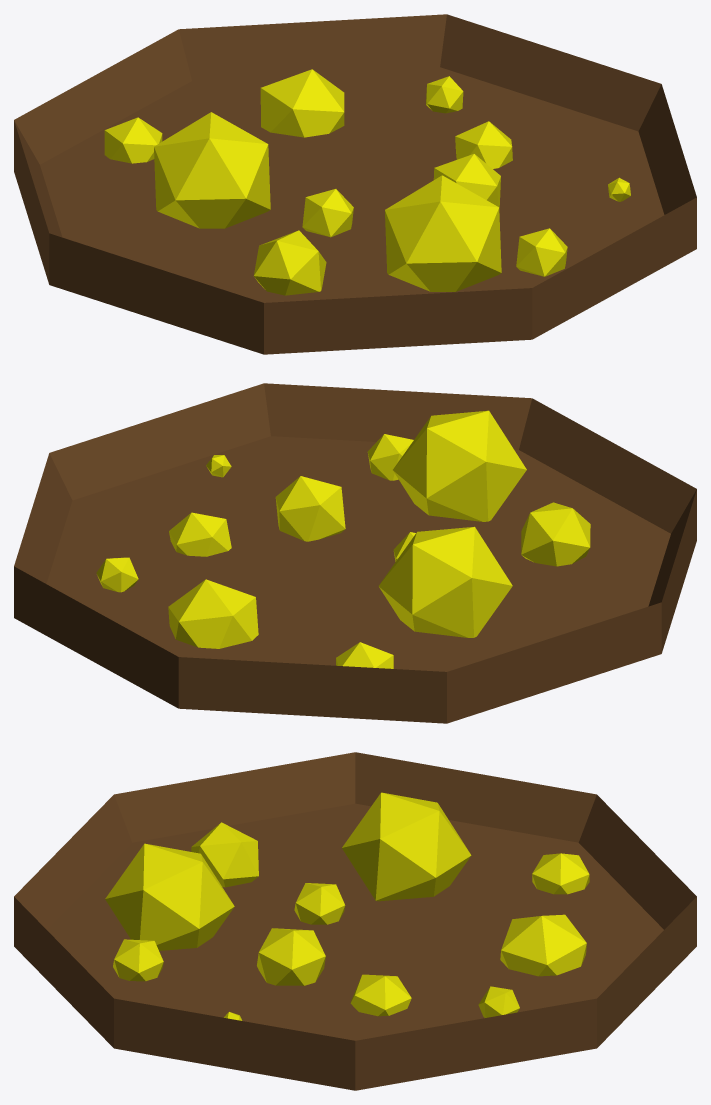
Rendered from Gold.fbx.
3 views of the same model, one above another, from view 1: azimuth 30°, elevation 25°; view 2: azimuth 150°, elevation 25°; view 3: azimuth 270°, elevation 25° (orthographic). The views are drawn at different scales.
Visible parts, largest first — view 1: Cylinder.005; view 2: Cylinder.005; view 3: Cylinder.005.
Part boxes in pixels (x1,y1,x2,y2): Cylinder.005: (14,14,696,354); Cylinder.005: (14,383,696,723); Cylinder.005: (14,752,696,1090).
Bounding box in the file's own units: 5.41 × 1.1 × 5.41.
